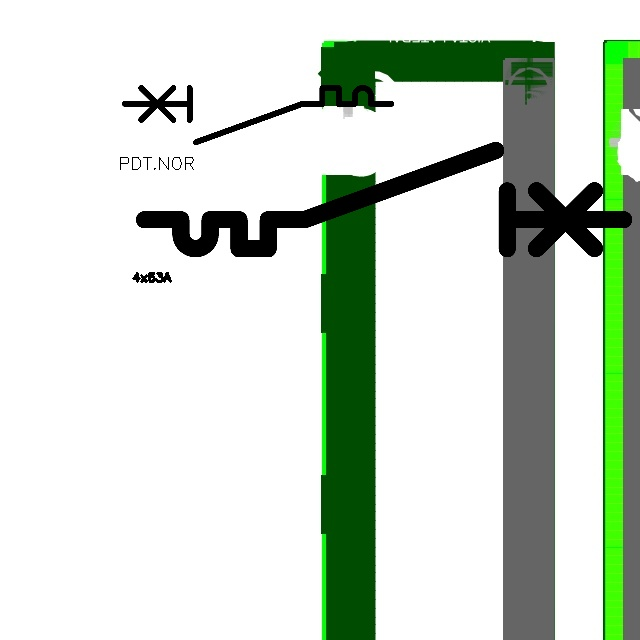interruptor_termomagnetico: (132, 138, 636, 261), (118, 81, 398, 149)
